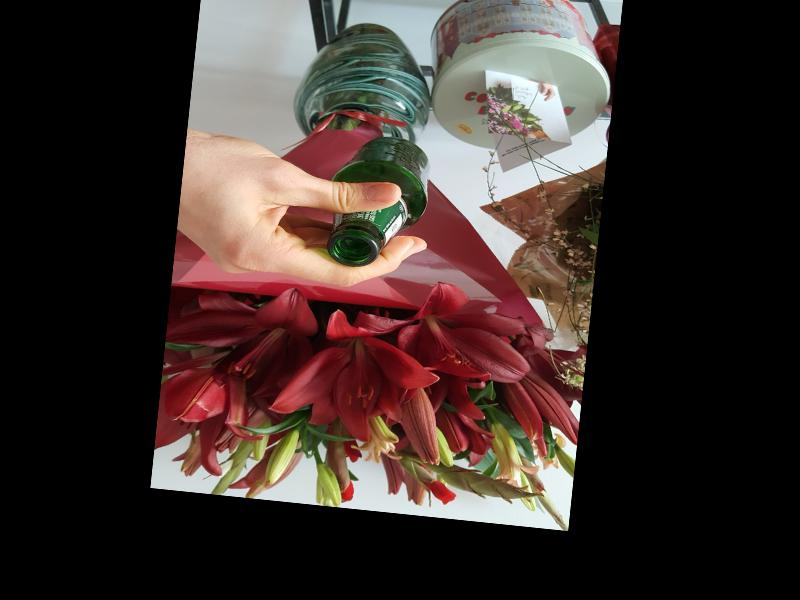Beer: (322, 131, 433, 273)
